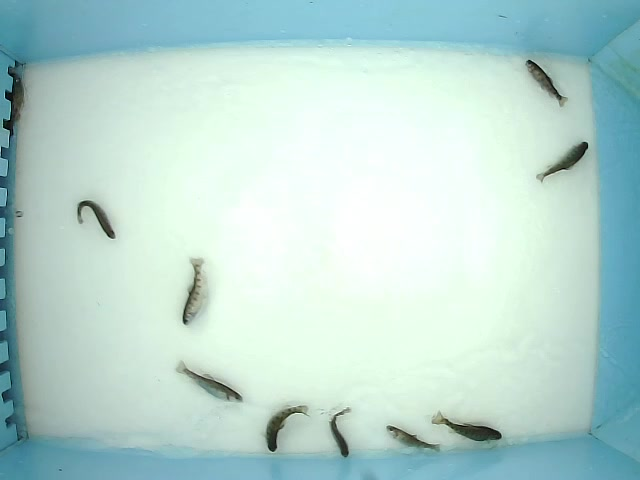fish: (174, 359, 244, 404), (429, 410, 504, 444), (261, 404, 310, 454), (534, 140, 589, 183), (524, 58, 569, 107), (75, 198, 119, 243), (182, 255, 208, 328), (386, 425, 440, 455), (329, 404, 355, 460)
